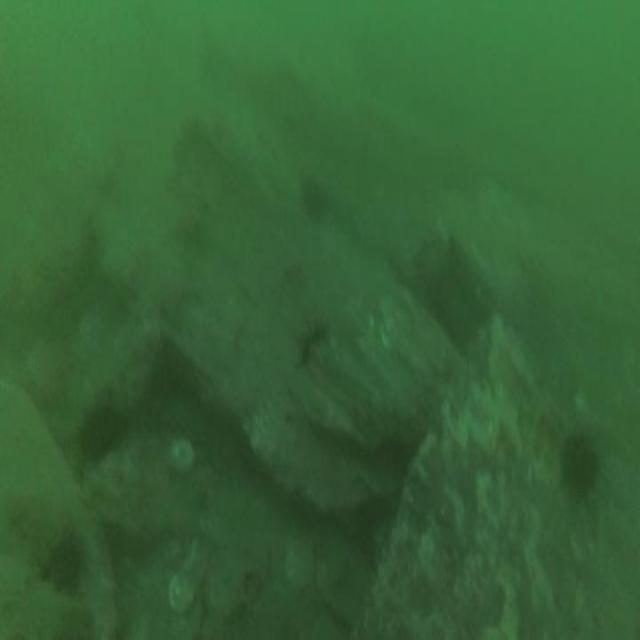echinus: (559, 430, 597, 493), (77, 409, 121, 457), (49, 539, 81, 589), (297, 175, 328, 226)
